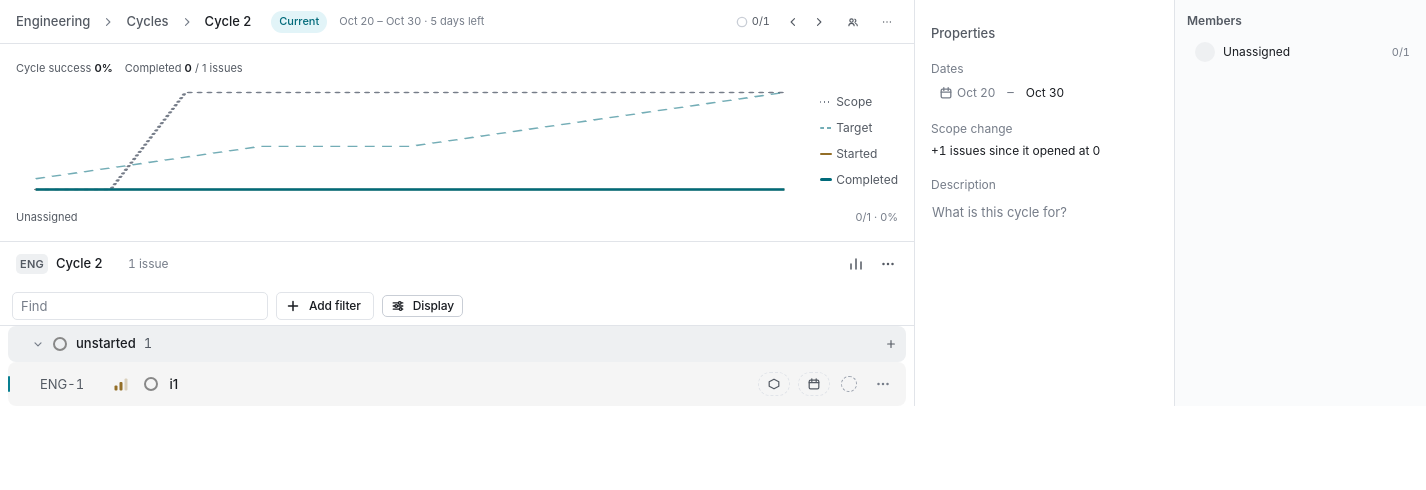
Test: CycleDetail header › steps forward on the chord its tooltip advertises
Hover over the button named "Next cycle" at (819, 22), box 808,10 -> 830,32
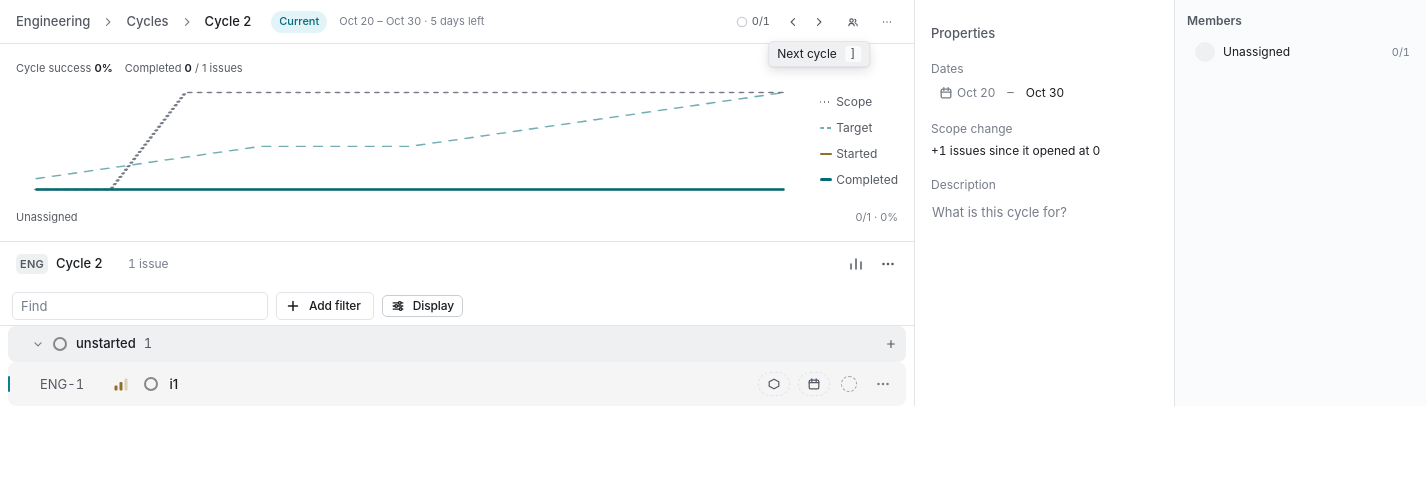
Check: the tooltip shows "]", box 851,46 -> 855,60
Type keys "[BracketRight]"
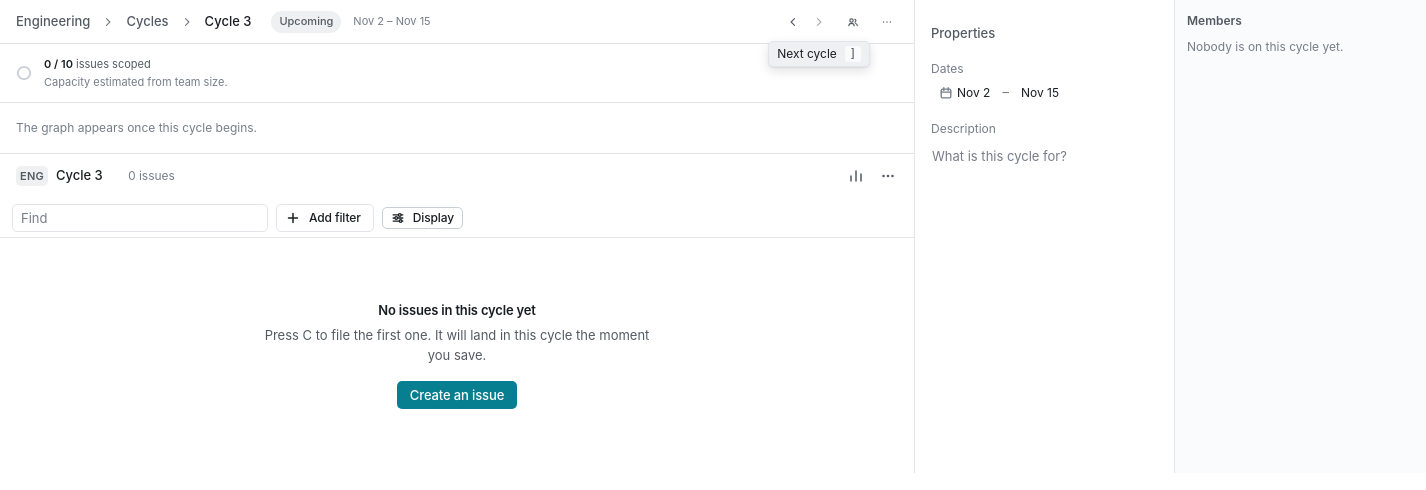
Check: the header "Cycle" shows "Cycle 3", box 205,13 -> 251,29
